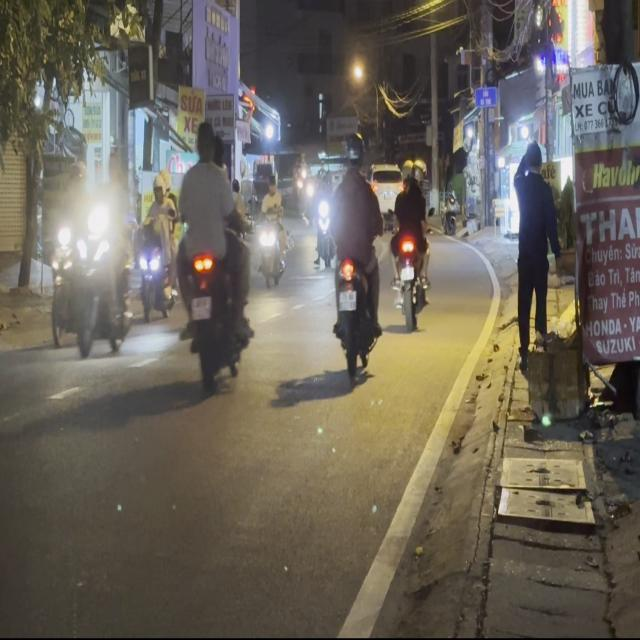helmet: (342, 132, 363, 173)
licenseplate: (172, 117, 252, 395), (326, 132, 384, 378)
motorcyclist: (194, 119, 217, 161)
nohelmet: (190, 295, 212, 319), (338, 290, 356, 310)
